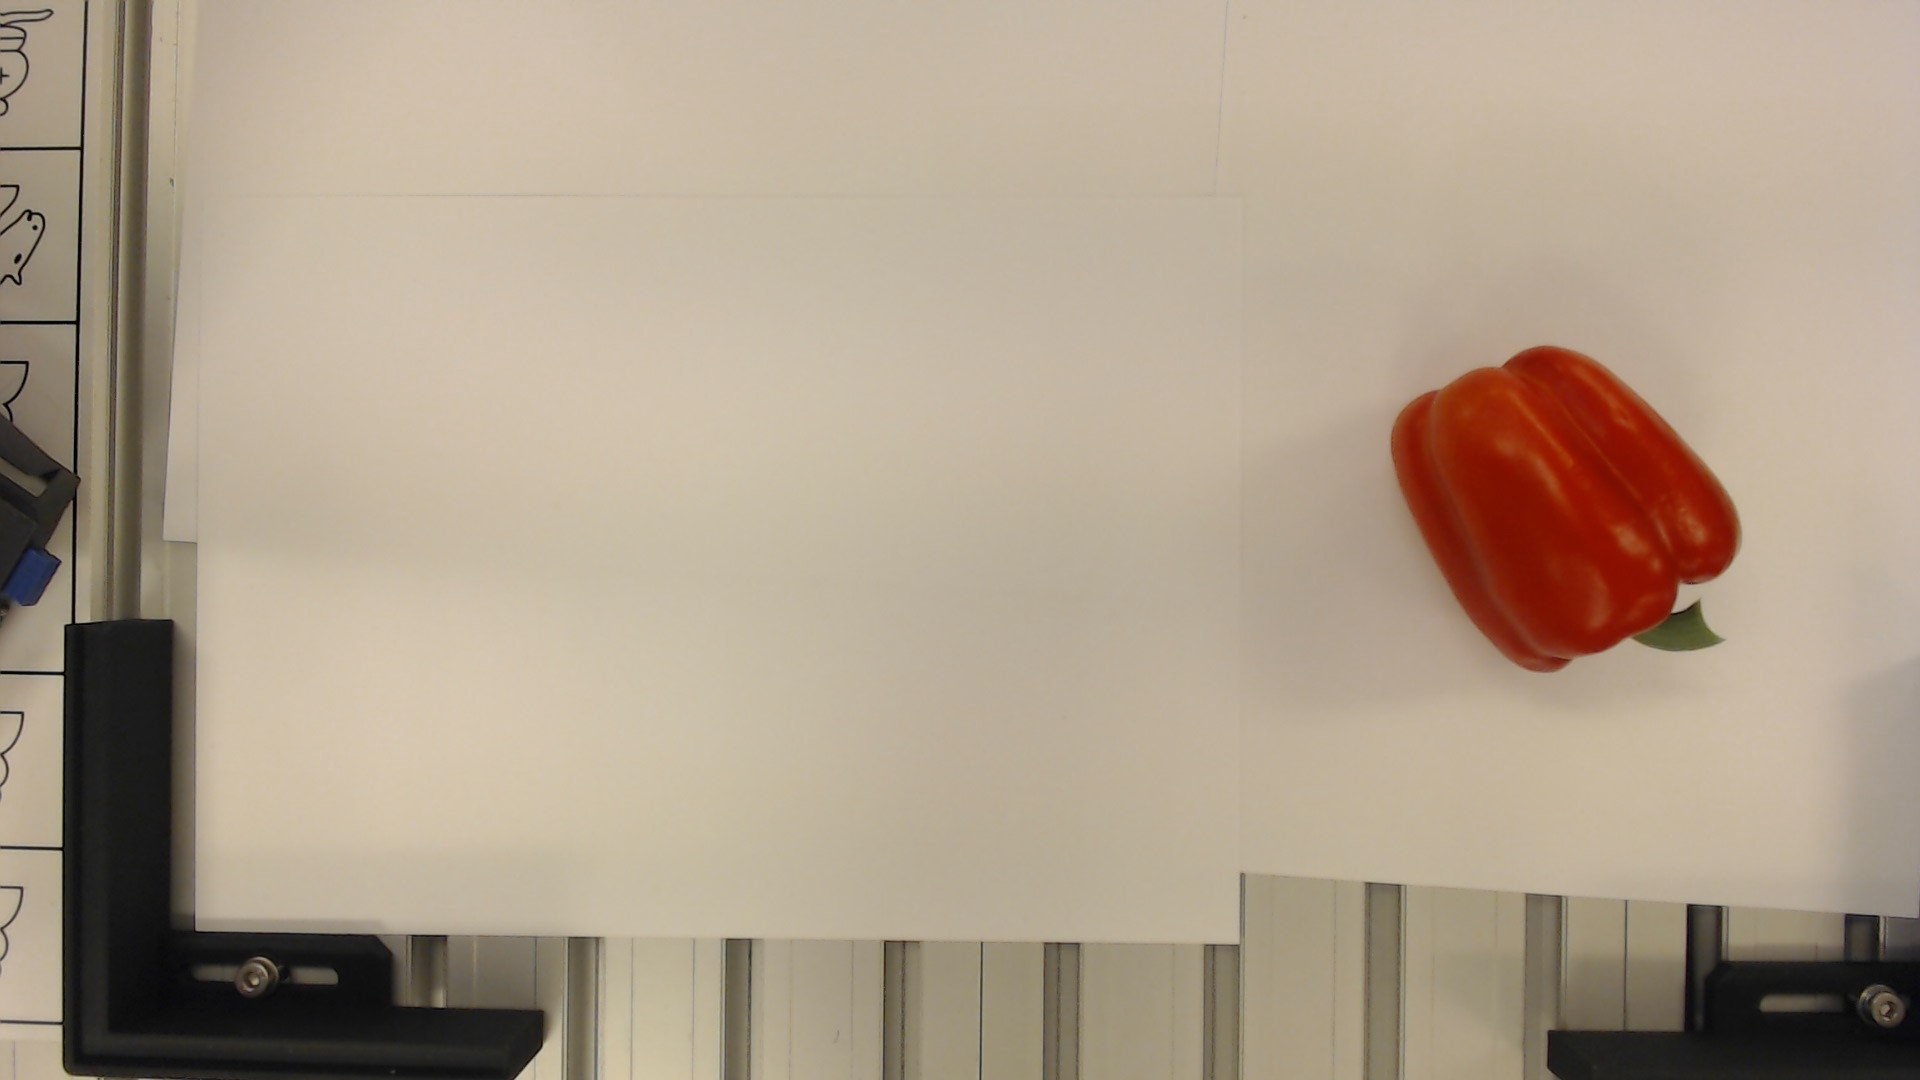Red Bell Pepper: (1375, 340, 1746, 676)
